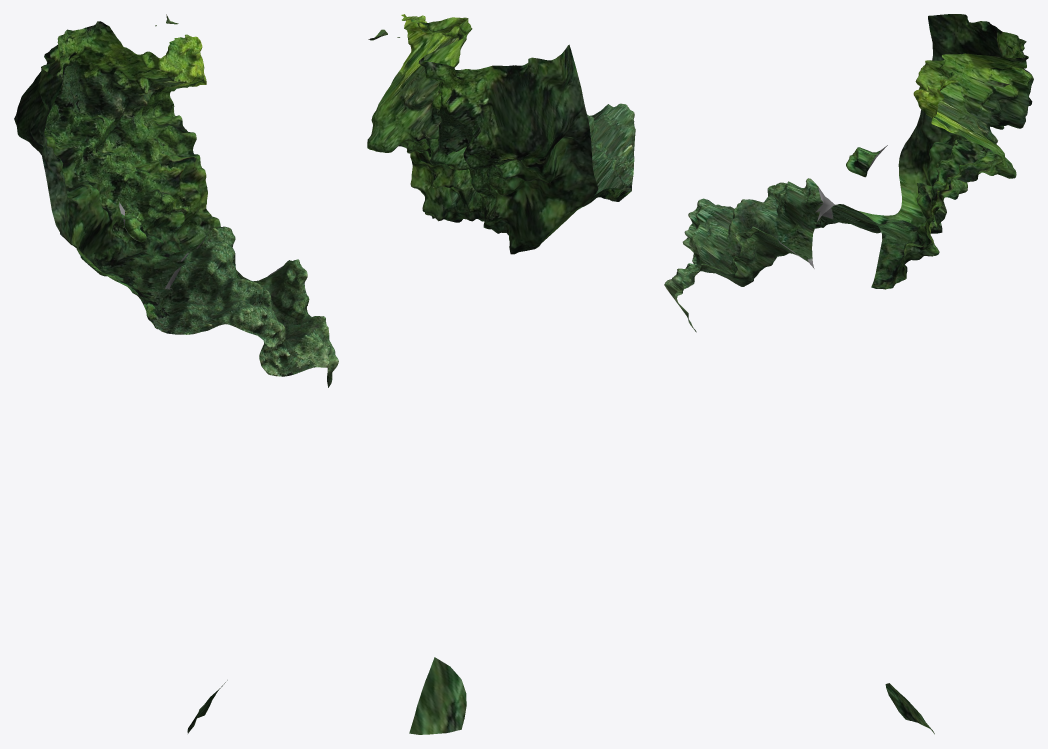
Rendered from Tile_+005_+016.fbx.
The picture shows the model from 3 angles, left to right: view 1: azimuth 30°, elevation 25°; view 2: azimuth 150°, elevation 25°; view 3: azimuth 270°, elevation 25°; orthographic projection. The views are drawn at different scales.
Parts seen in each view (by area): view 1: DefaultName; view 2: DefaultName; view 3: DefaultName.
Part boxes in pixels (left/top/right/bottom): DefaultName: left=14, top=14, right=338, bottom=733; DefaultName: left=367, top=14, right=635, bottom=734; DefaultName: left=664, top=14, right=1033, bottom=734.
Bounding box in the file's own units: 5.79 × 22.54 × 11.61.
